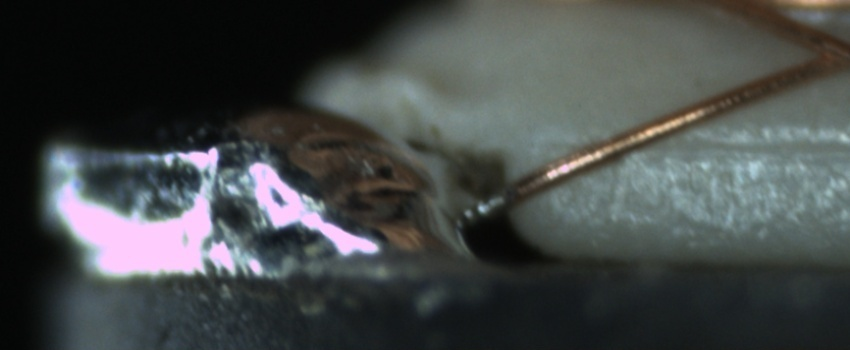CL: (792, 23, 850, 78)
DL: (555, 113, 850, 179)
TS: (464, 186, 510, 222)
